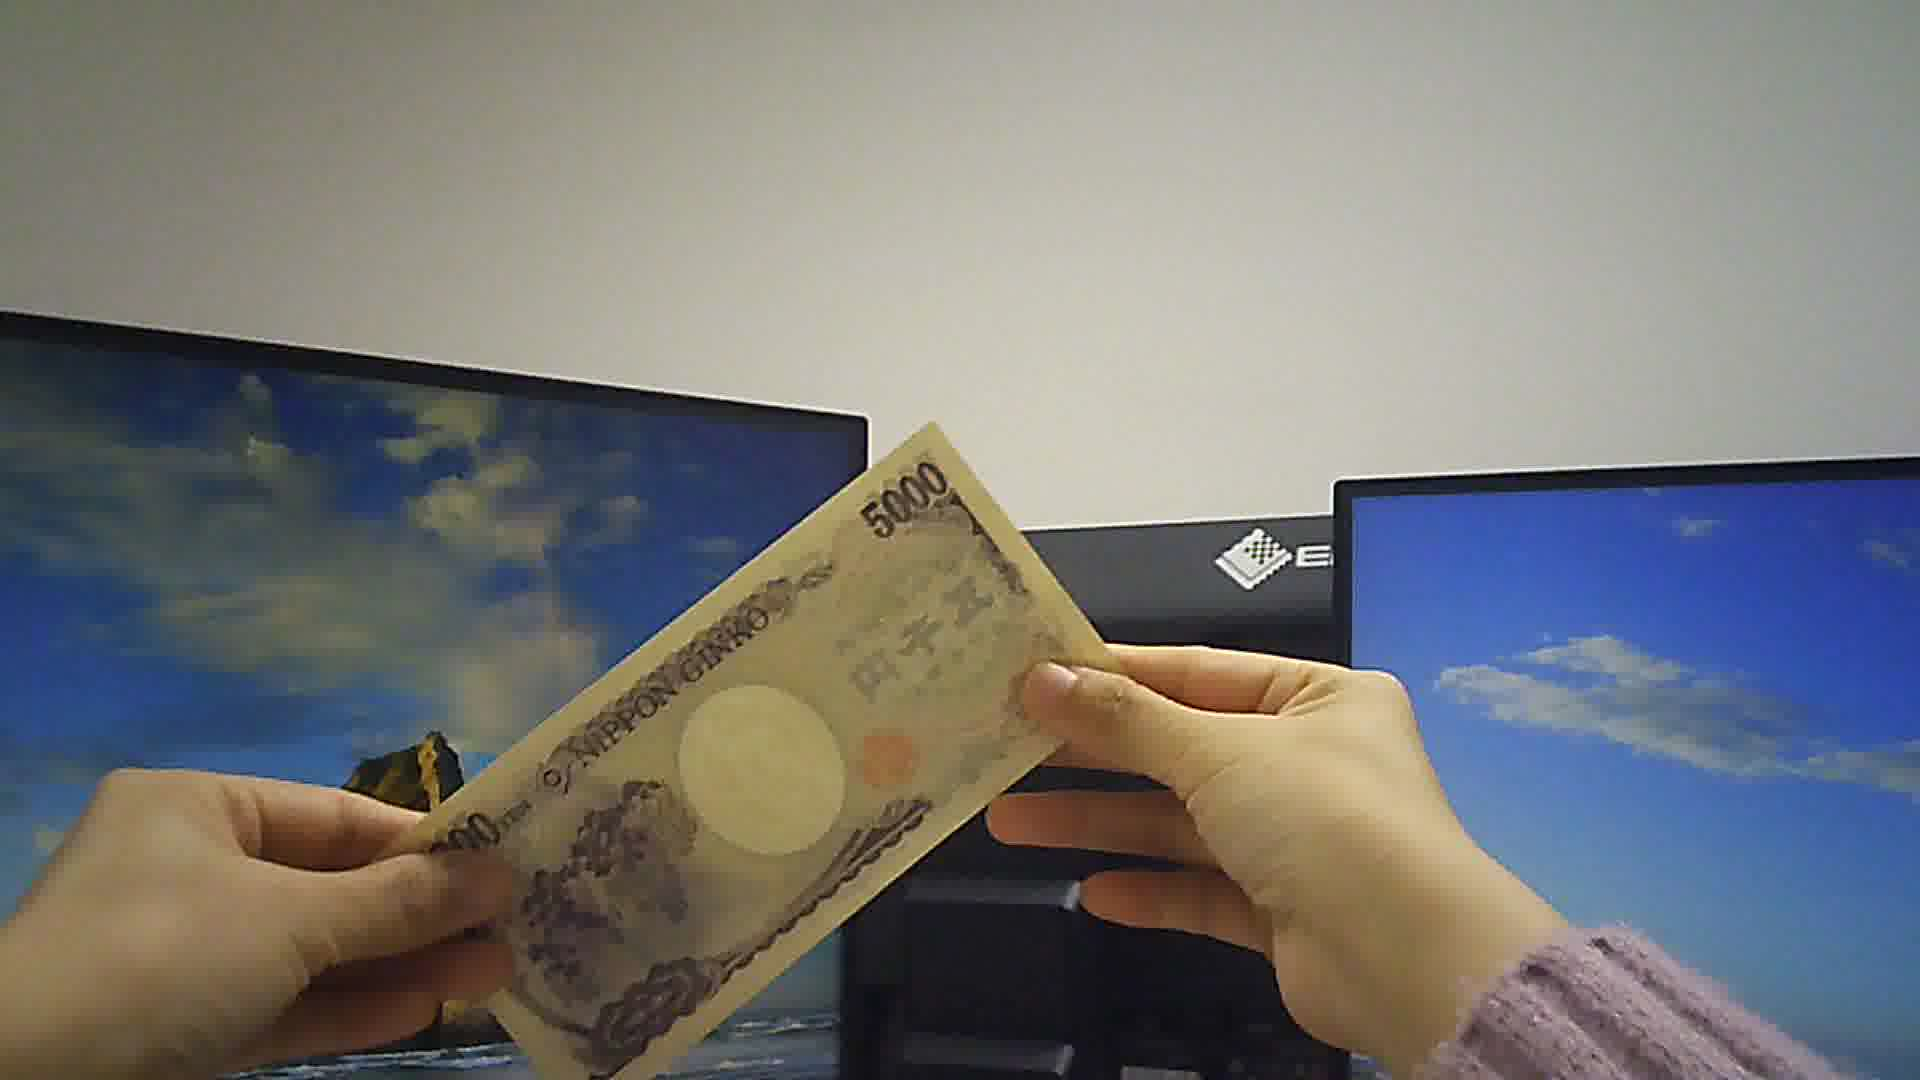5,000 Yen: (306, 373, 1150, 1079)
